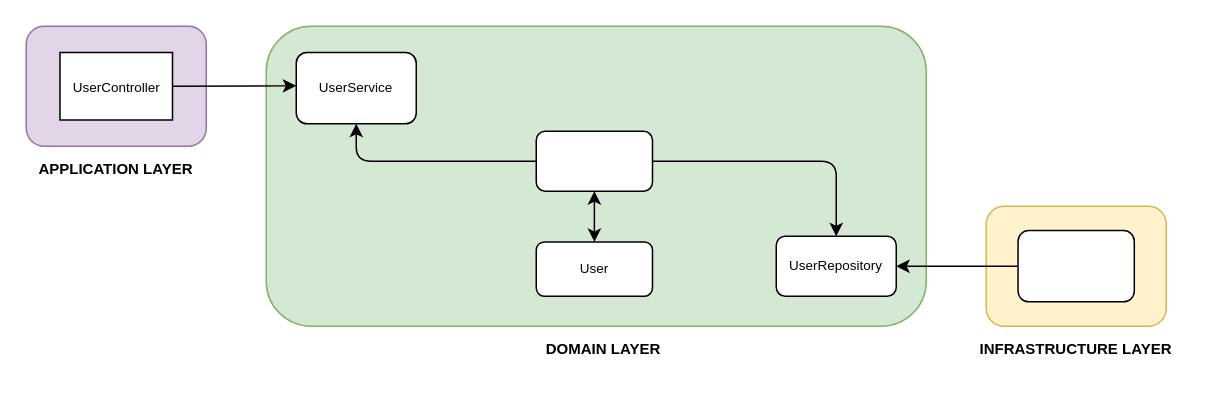
Some shapes in this 1208 by 398 pixel diagram are drawn without their labels. Here are the shapes that lost their labels. From the top down, the centre of each, then its label:
At (x=593, y=160): "UserServiceImpl".
At (x=1075, y=265): "JpaRepository".
